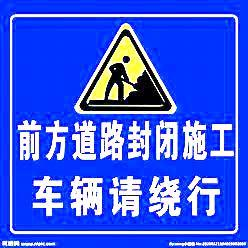sign: (5, 8, 241, 236)
